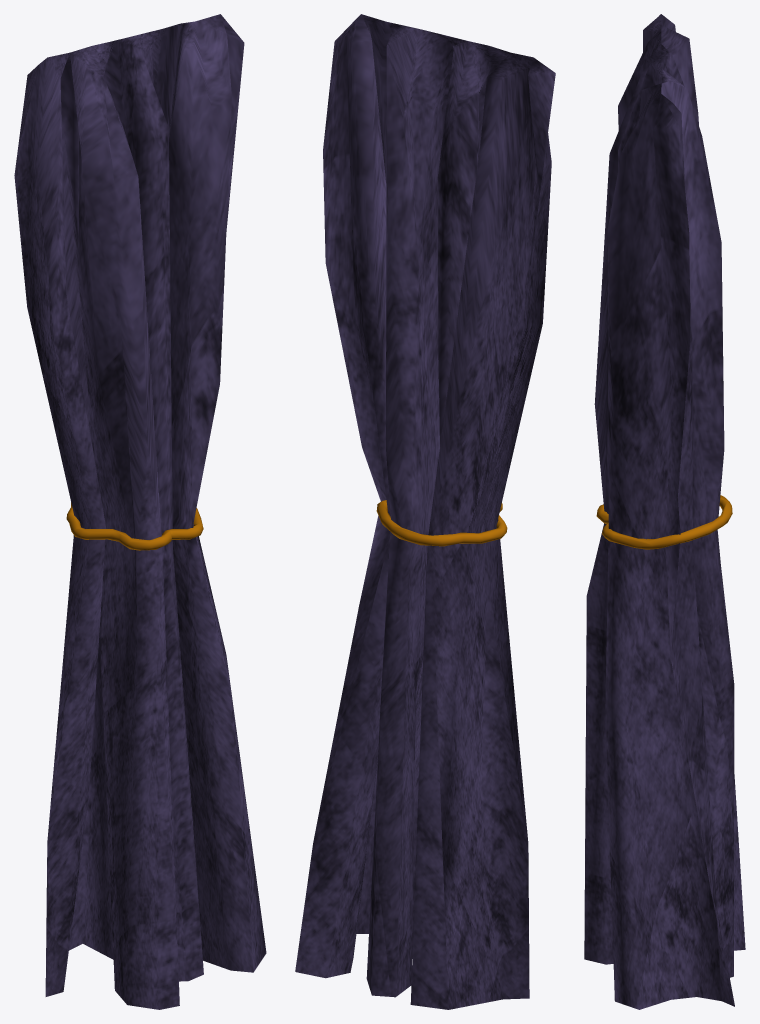
The model's file is curtain_1_3_3.fbx.
3 renders of one model, left to right at view 1: azimuth 30°, elevation 25°; view 2: azimuth 150°, elevation 25°; view 3: azimuth 270°, elevation 25°, orthographic. The views are drawn at different scales.
Visible parts, largest first — view 1: Grid, Cone; view 2: Grid, Cone; view 3: Grid, Cone.
Boxes of the visible parts, box(x1,y1,x2,y2) form: Grid: box(14, 14, 266, 1009); Cone: box(66, 502, 203, 550); Grid: box(295, 14, 555, 1009); Cone: box(376, 500, 507, 546); Grid: box(584, 14, 745, 1009); Cone: box(596, 495, 732, 549).
Size of the model in its own units: 47.24 by 187 by 30.09.
